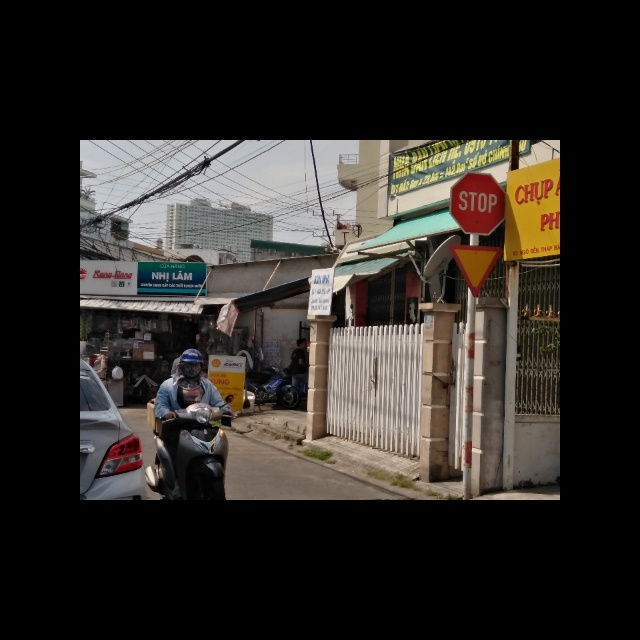Dừng lại: (450, 171, 505, 234)
Giao nhau với đường ưu tiên: (450, 242, 502, 298)
